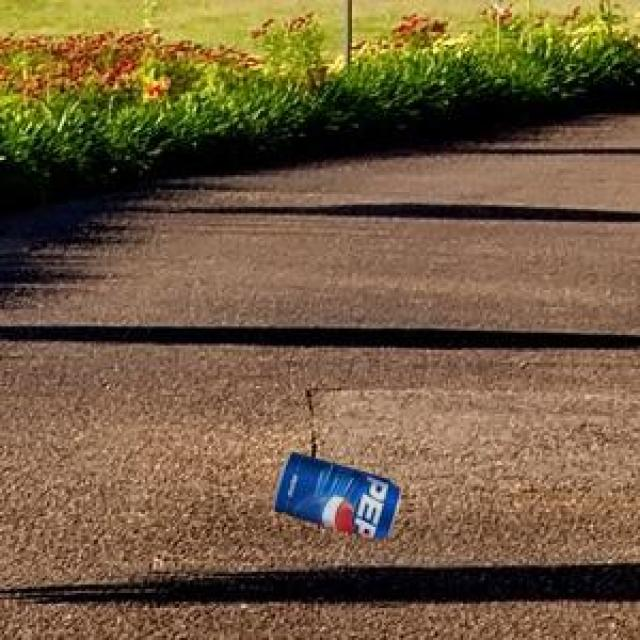logam: (270, 449, 397, 534)
